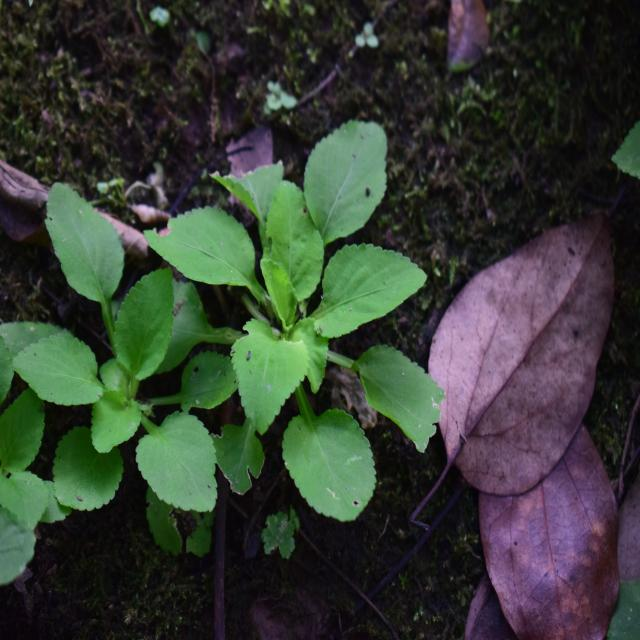Viola: (185, 128, 428, 490), (25, 164, 226, 526)
